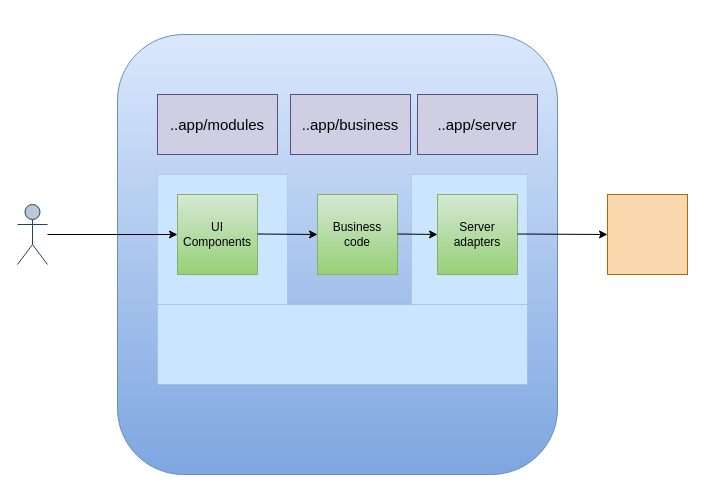
Image size: 705x492. Some labels were removed from this diagram. The shapes that lost their labels are listed below. From the top down, each one's centre as x and y in pixels, then its label:
At pixel 32 234: "Actor".
At pixel 647 234: "Back services".
At pixel 342 344: "Angular Framework".
